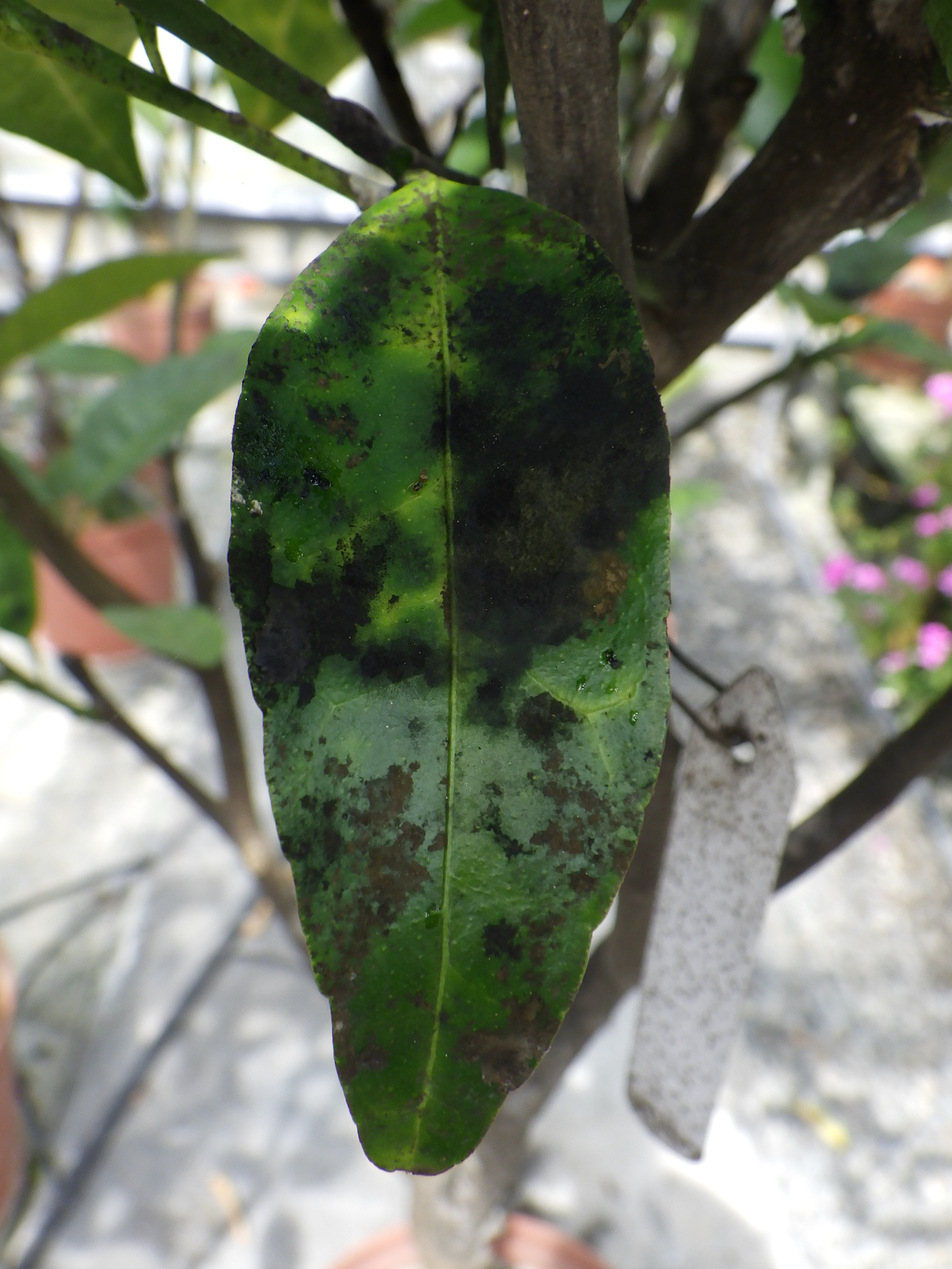Sooty_Mold: (229, 174, 668, 1173)
